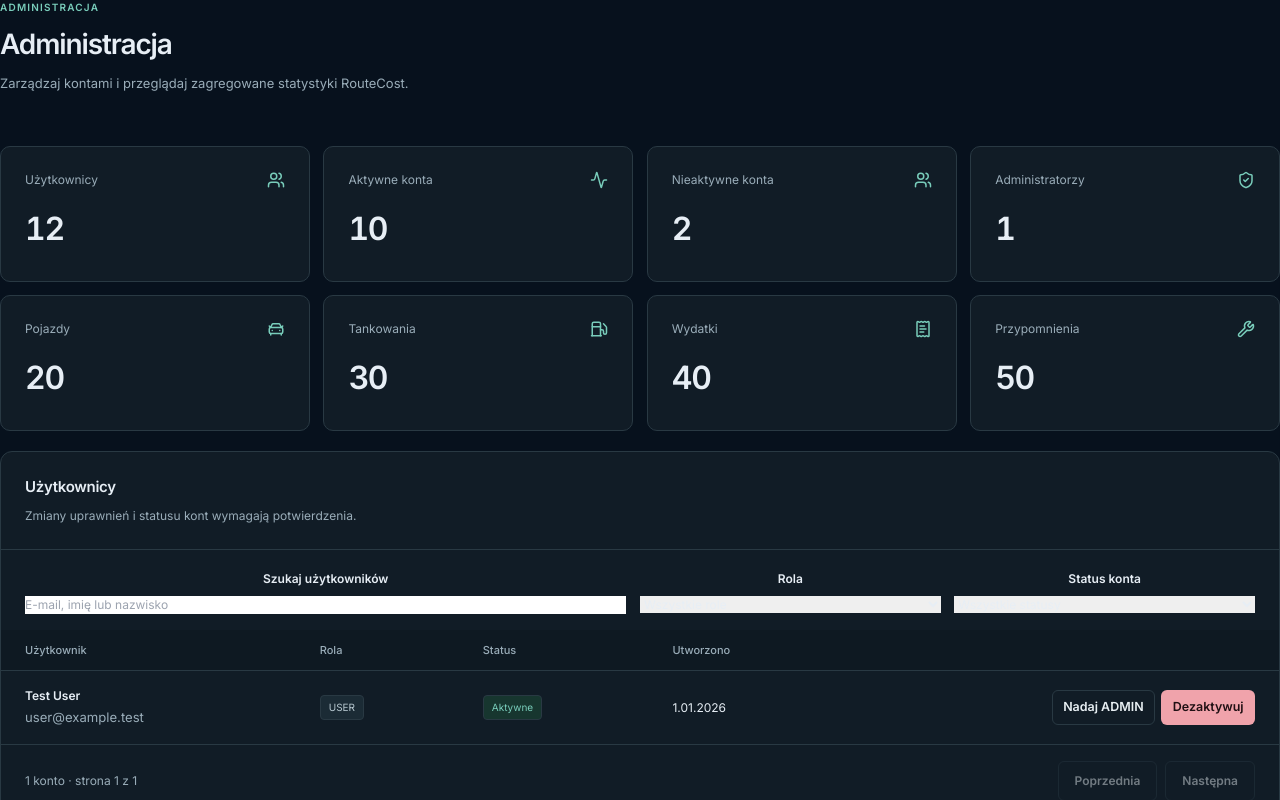
Test case: admin user management › shows HTTP 409 as a readable confirmation error
Expected: the text "user@example.test" is shown, top-left (25, 709), bottom-right (144, 725)
Click the button "Nadaj ADMIN".
click(1103, 708)  # box top-left (1052, 690), bottom-right (1155, 725)
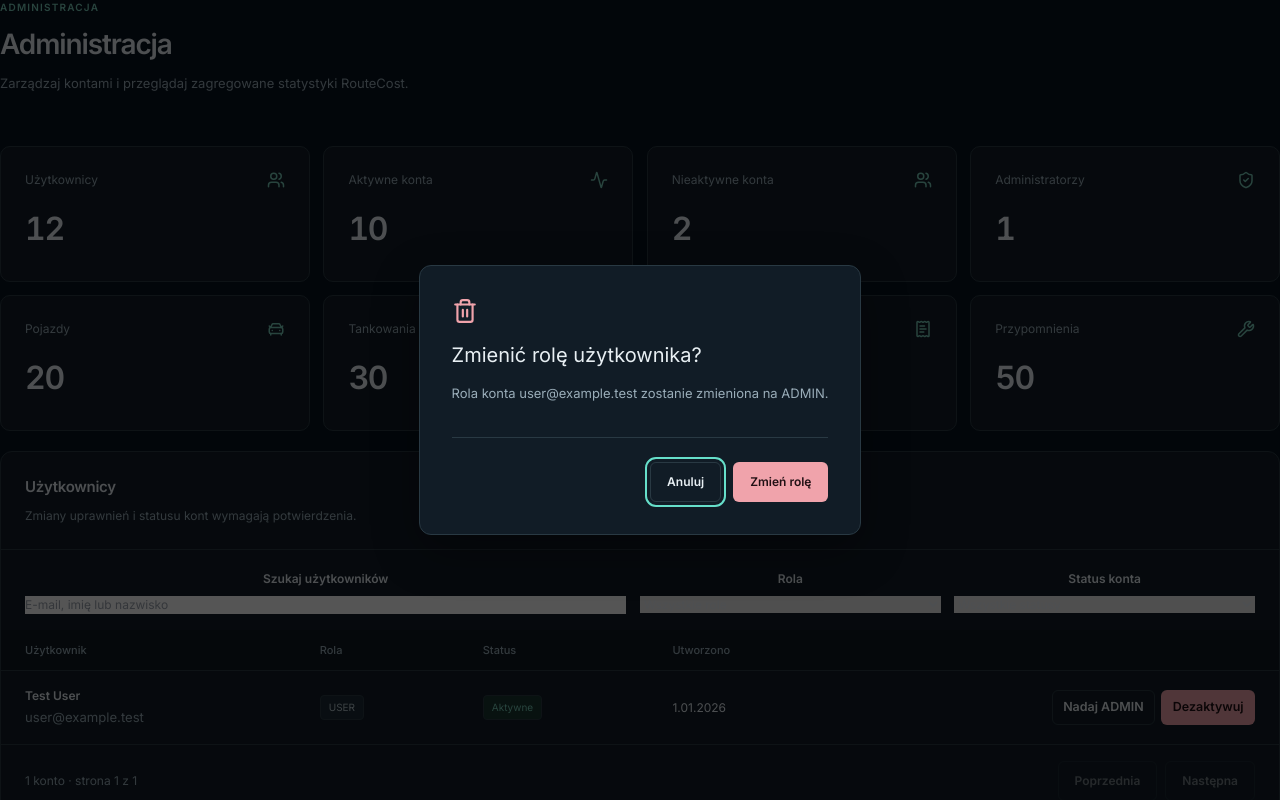
Click the button "Zmień rolę".
click(781, 482)  # box top-left (733, 462), bottom-right (828, 502)
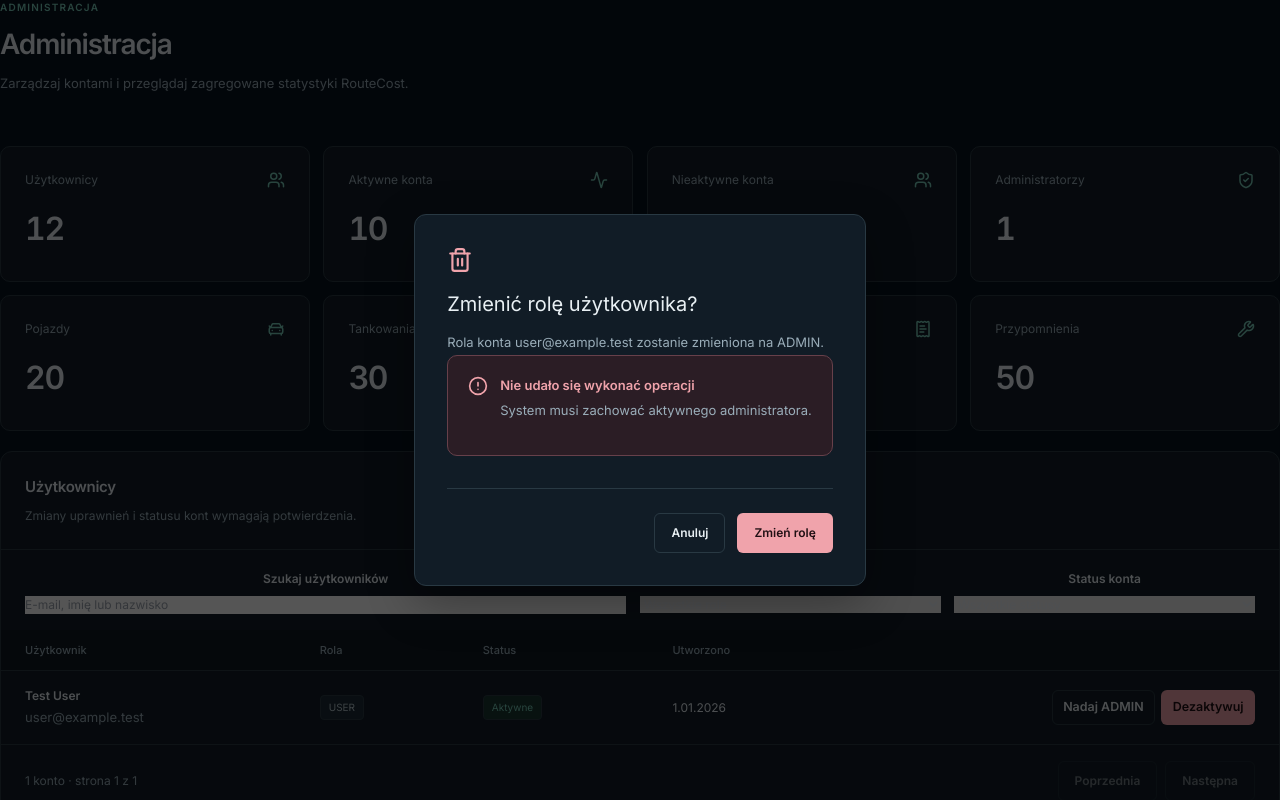
Result: the text "System musi zachować aktywnego administratora." is shown at top-left (500, 399), bottom-right (812, 423)
